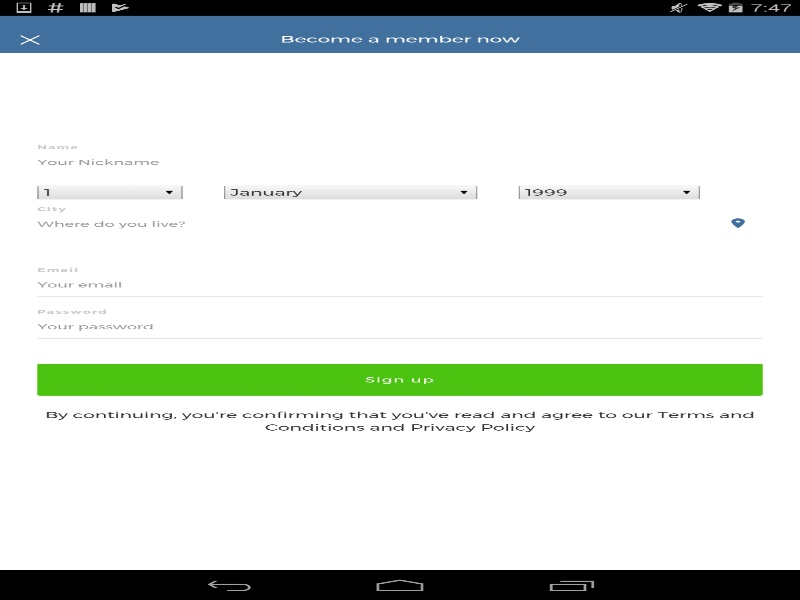Button: (37, 363, 762, 395), (6, 542, 124, 570)
Input: (37, 150, 762, 174), (37, 212, 762, 236), (37, 273, 762, 296), (37, 315, 762, 338)
